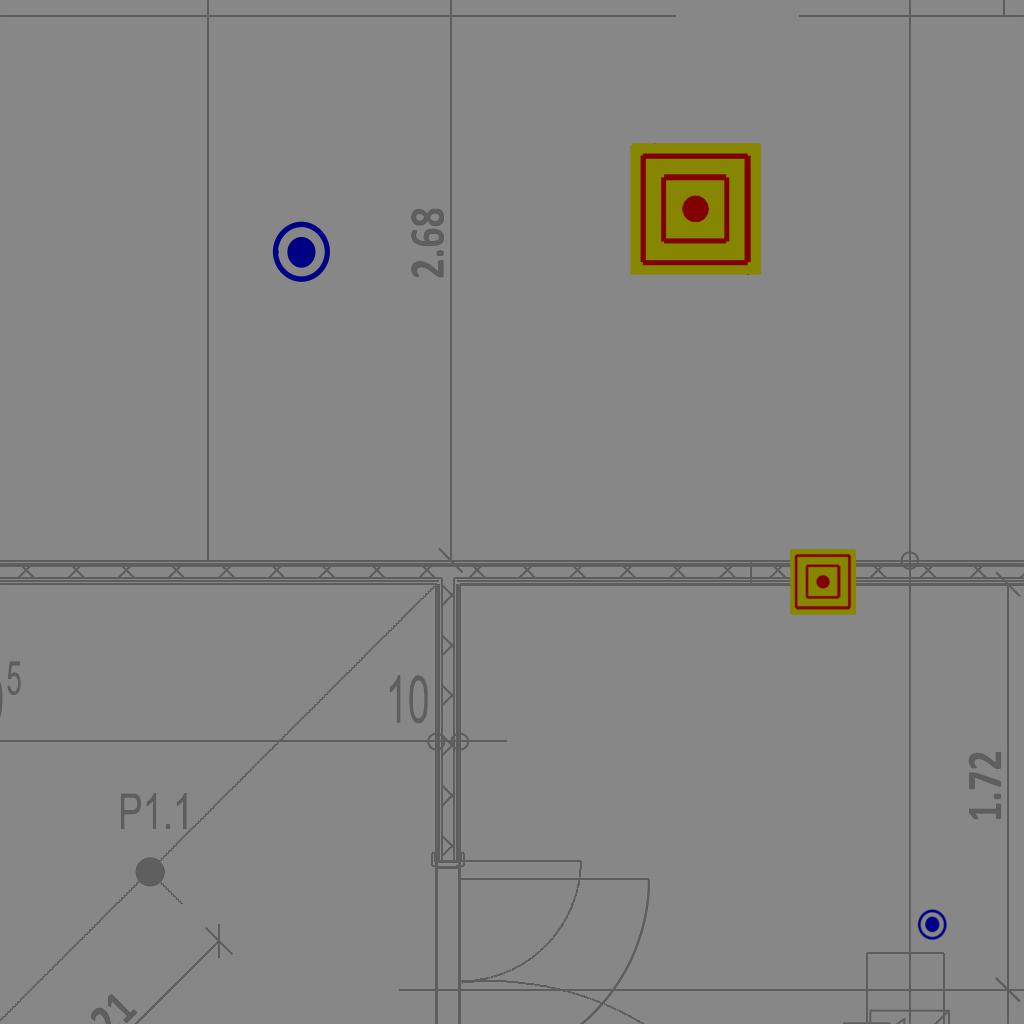NAM-Nichtautomatischer_Melder: (630, 143, 762, 275), (790, 549, 856, 615)
Taster: (266, 219, 332, 285), (917, 908, 950, 941)
